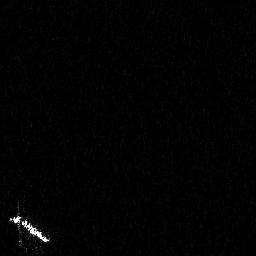ship: (6, 199, 53, 253)
